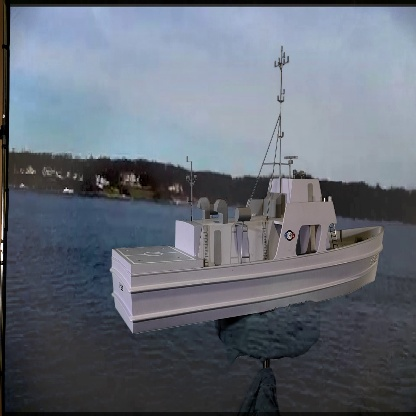YP689: (109, 42, 387, 337)
